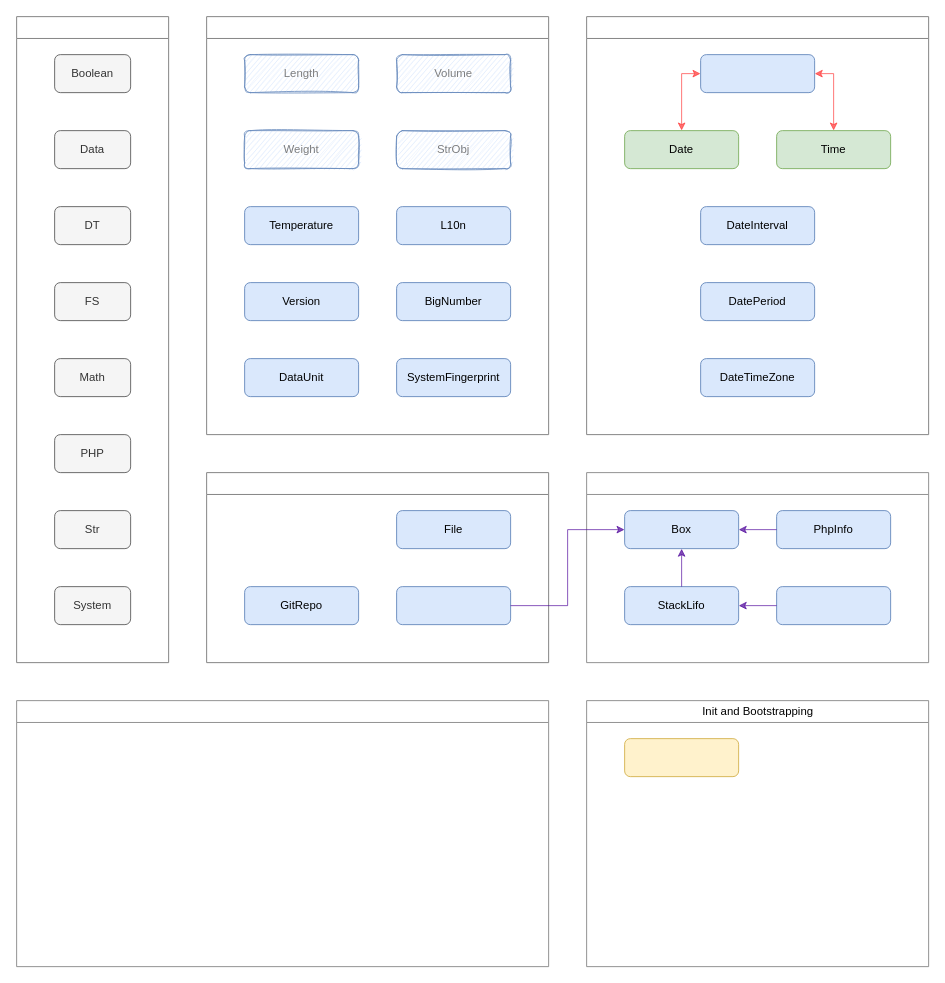
Some shapes in this 945 by 983 pixel diagram are drawn without their labels. The box of each missing label's shape, as (x1, y1, x2, y2) in pixels:
Arrays: (586, 472, 929, 663)
Date and Time: (586, 16, 929, 435)
DateTime: (700, 54, 815, 93)
Dir: (396, 586, 511, 625)
Files and FS: (206, 472, 549, 663)
Finances and Currecny: (16, 700, 549, 967)
InitConfig: (624, 738, 739, 777)
Measure and common purpose: (206, 16, 549, 435)
StackFifo: (776, 586, 891, 625)
Static Classes: (16, 16, 169, 663)
